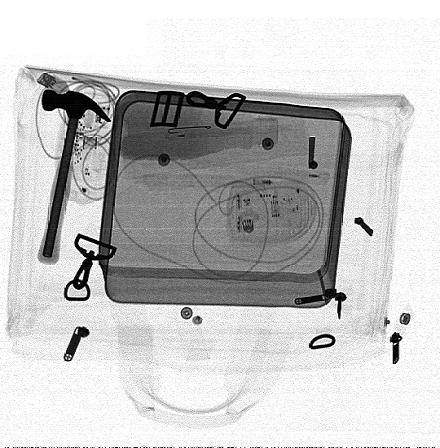Hammer: (37, 89, 112, 266)
